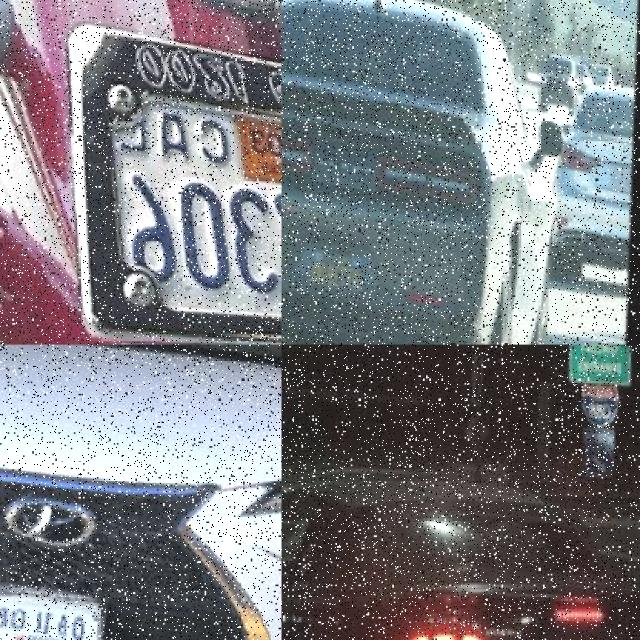licenseplate: (41, 18, 282, 330), (0, 586, 99, 640), (306, 248, 362, 304), (604, 166, 630, 194)
